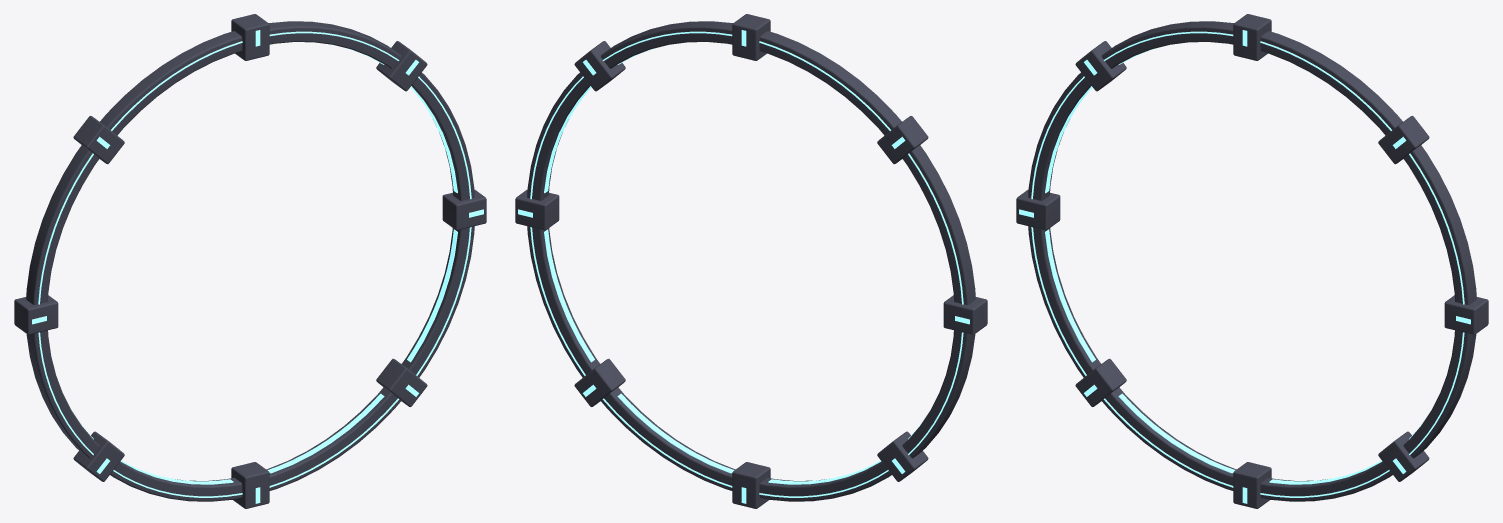
The model's file is ring.glb.
3 renders of one model, left to right at view 1: azimuth 30°, elevation 25°; view 2: azimuth 150°, elevation 25°; view 3: azimuth 330°, elevation 25°, orthographic.
Parts seen in each view (by area): view 1: body, trim; view 2: body, trim; view 3: body, trim.
Part boxes in pixels (x1=…): body: x1=14, y1=14, x2=486, y2=508; trim: x1=32, y1=30, x2=483, y2=503; body: x1=515, y1=14, x2=987, y2=508; trim: x1=518, y1=30, x2=969, y2=503; body: x1=1016, y1=14, x2=1488, y2=508; trim: x1=1019, y1=30, x2=1470, y2=503.
Bounding box in the file's own units: 6.22 × 6.22 × 0.356.
